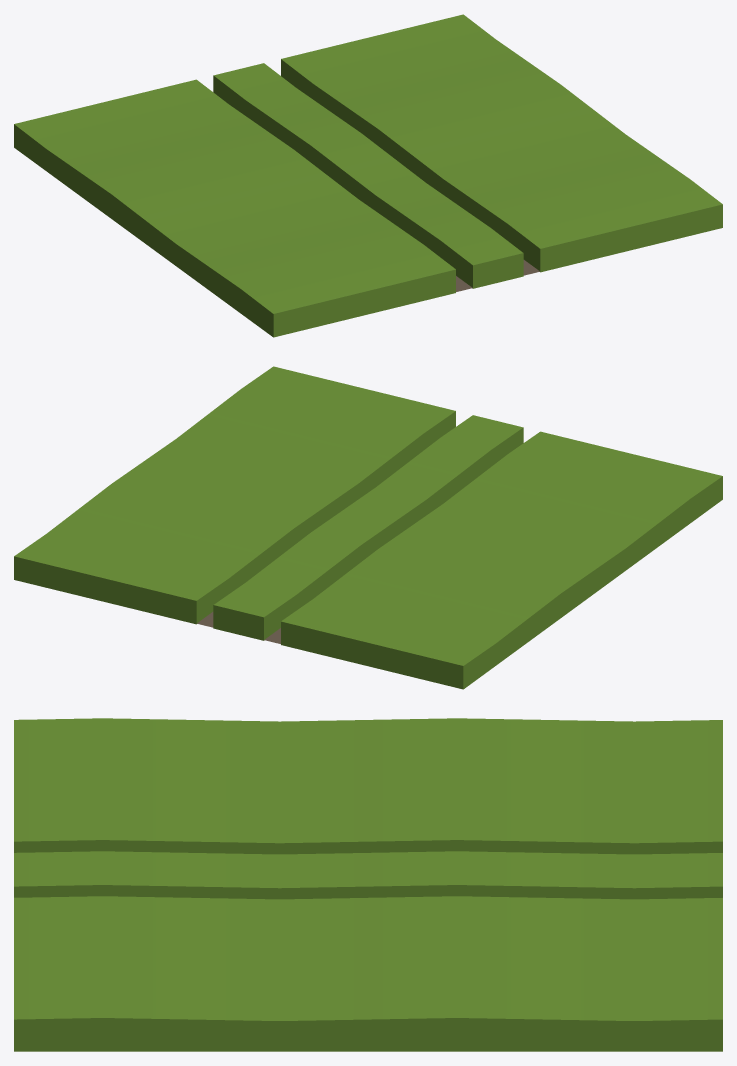
The model's file is tile.fbx.
3 renders of one model, top to bottom at view 1: azimuth 30°, elevation 25°; view 2: azimuth 150°, elevation 25°; view 3: azimuth 270°, elevation 25°, orthographic. The views are drawn at different scales.
Parts seen in each view (by area): view 1: a1000/300/tile; view 2: a1000/300/tile; view 3: a1000/300/tile.
Part boxes in pixels (box(x1,y1,x2,y2)): a1000/300/tile: box(14, 14, 722, 337); a1000/300/tile: box(14, 366, 722, 689); a1000/300/tile: box(14, 718, 722, 1051).
Bounding box in the file's own units: 12 × 0.63 × 12.
